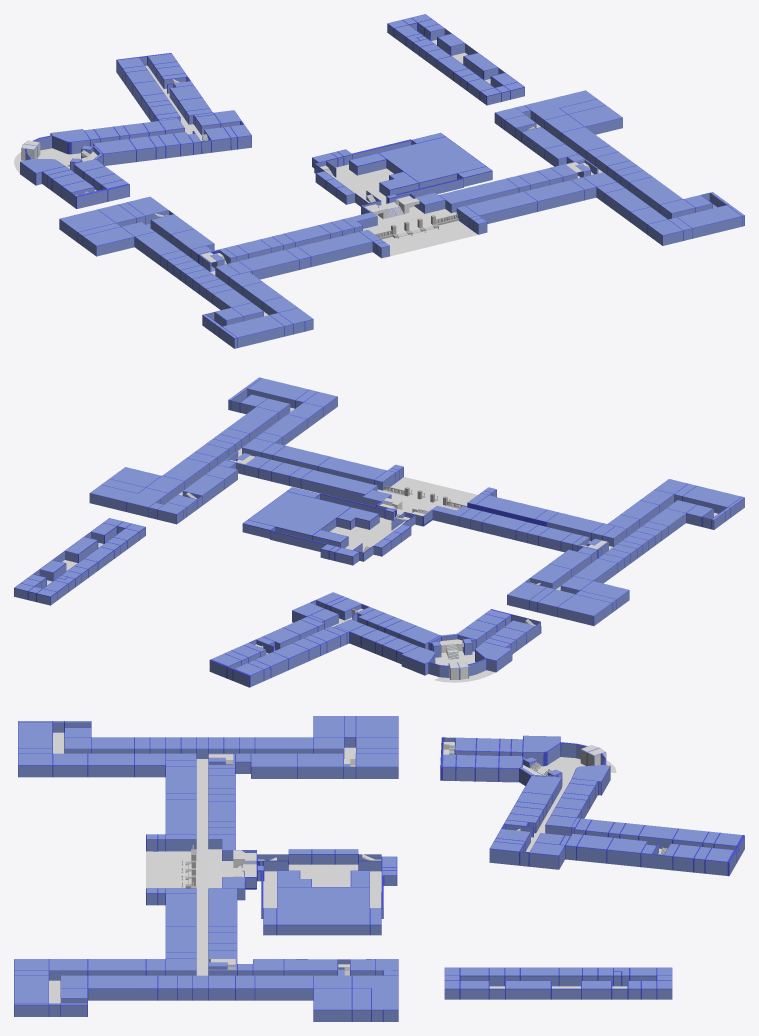
Rendered from dstu.glb.
The picture shows the model from 3 angles, top to bottom: view 1: azimuth 30°, elevation 25°; view 2: azimuth 150°, elevation 25°; view 3: azimuth 270°, elevation 25°; orthographic projection. The views are drawn at different scales.
Parts seen in each view (by area): view 1: Plane.002, Plane.008, K1, 1, ExtraPlane, Plane; view 2: Plane.002, Plane.008, K1, 1, ExtraPlane; view 3: Plane.002, Plane.008, K1, 1, ExtraPlane, Plane.
Part boxes in pixels (x1=…): Plane.002: x1=59, y1=90, x2=744, y2=348; Plane.008: x1=14, y1=53, x2=251, y2=208; K1: x1=312, y1=133, x2=492, y2=206; 1: x1=387, y1=14, x2=524, y2=105; ExtraPlane: x1=210, y1=124, x2=602, y2=316; Plane: x1=365, y1=196, x2=424, y2=225; Plane.002: x1=89, y1=377, x2=744, y2=625; Plane.008: x1=209, y1=592, x2=541, y2=687; K1: x1=242, y1=487, x2=415, y2=565; 1: x1=14, y1=518, x2=145, y2=605; ExtraPlane: x1=178, y1=407, x2=717, y2=590; Plane.002: x1=14, y1=716, x2=398, y2=1021; Plane.008: x1=440, y1=735, x2=744, y2=876; K1: x1=257, y1=849, x2=397, y2=935; 1: x1=444, y1=967, x2=672, y2=999; ExtraPlane: x1=49, y1=732, x2=355, y2=1003; Plane: x1=221, y1=850, x2=256, y2=886.
Size of the model in its own units: 179 by 4.88 by 188.
